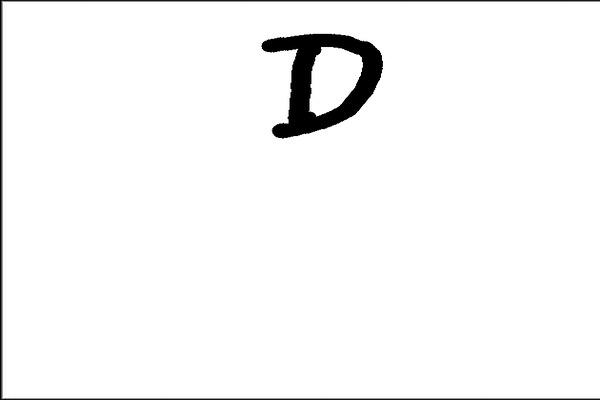D: (257, 28, 388, 146)
